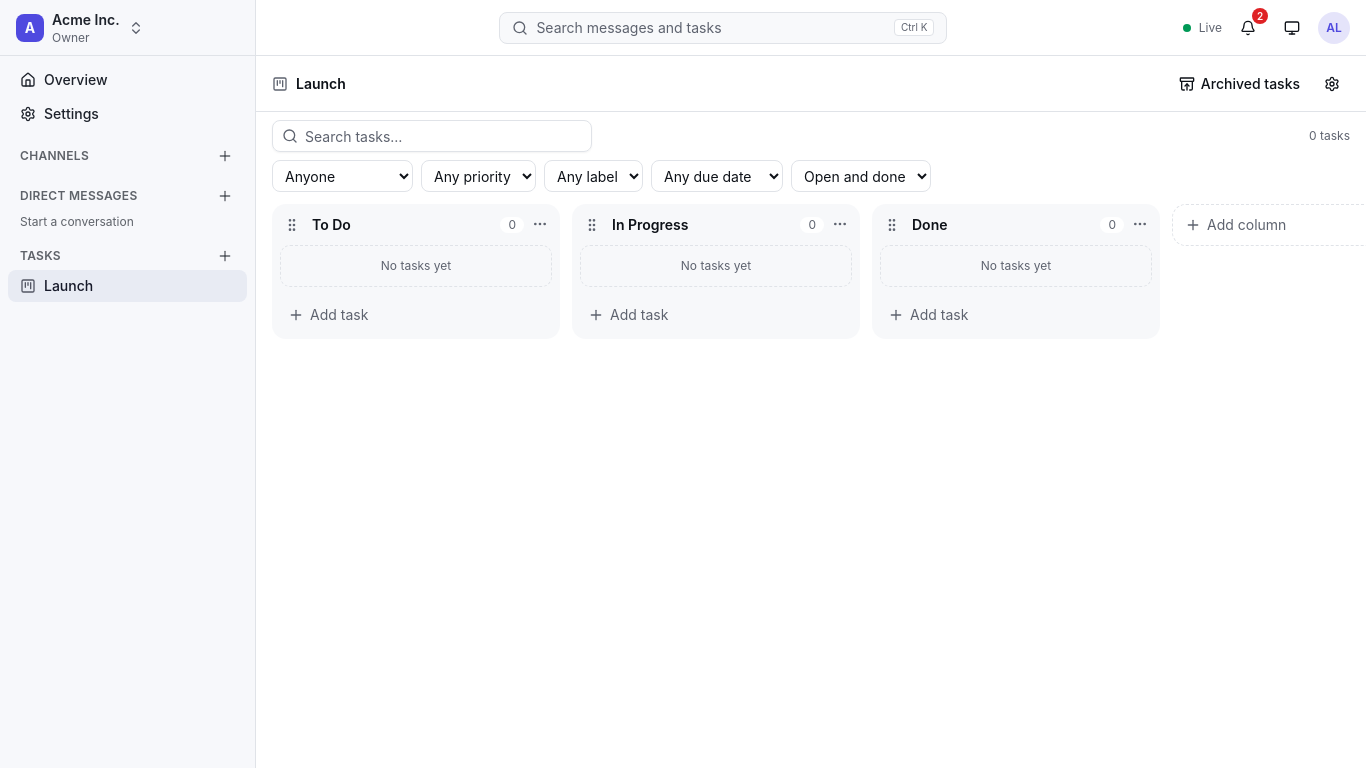
Test: notification bell › shows the unread count and opens the task a notification points to
The width and height of the screenshot is (1366, 768).
What coordinates should you click on to do the following:
click the button named "Notifications, 2 unread"
I would click on:
 (1248, 28)
Its box is 1230,10 -> 1266,46.
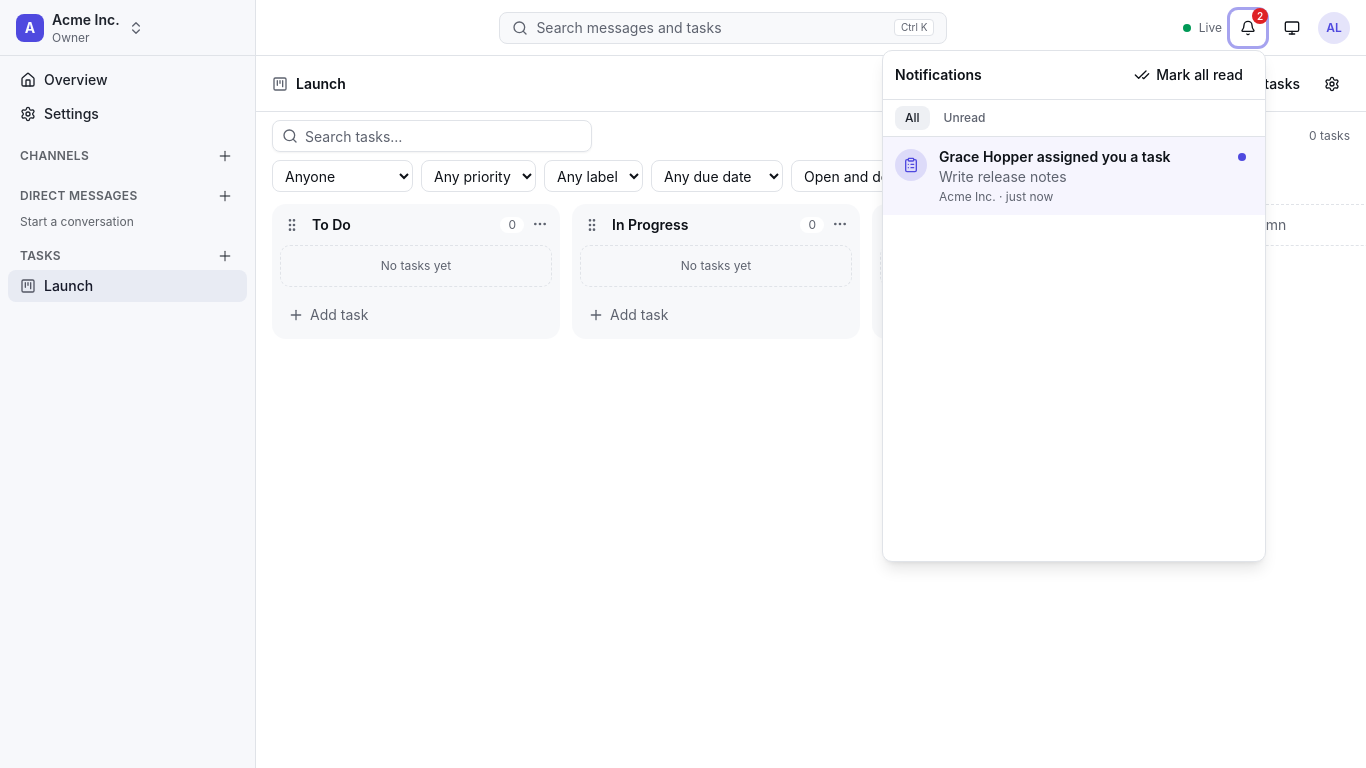
What coordinates should you click on to do the following:
click the button that starts with "Grace Hopper assigned you a task"
I would click on:
 (965, 155)
Its box is 939,146 -> 1219,204.
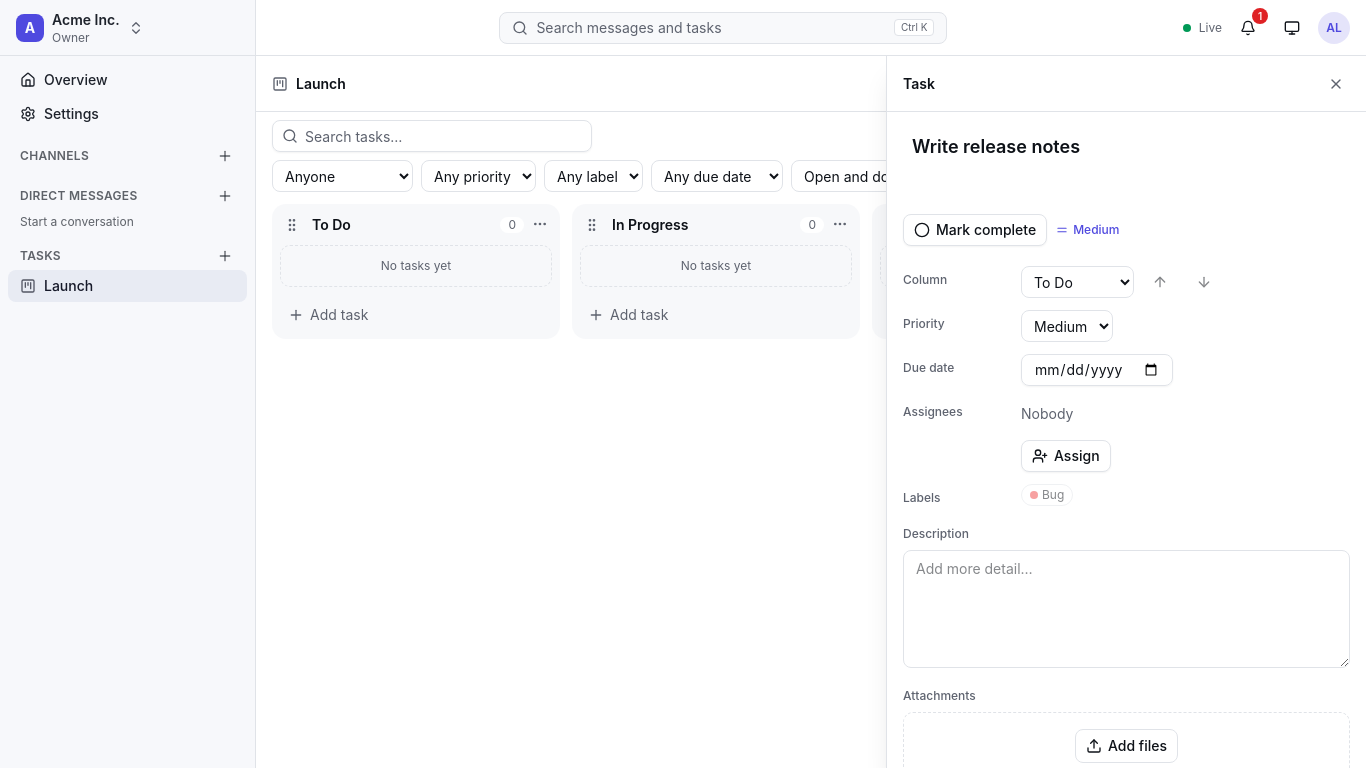
Check: the text box named "Task title" holds "Write release notes", box 903,128 -> 1350,194
Check: the button named "Notifications, 1 unread" is shown, box 1230,10 -> 1266,46
